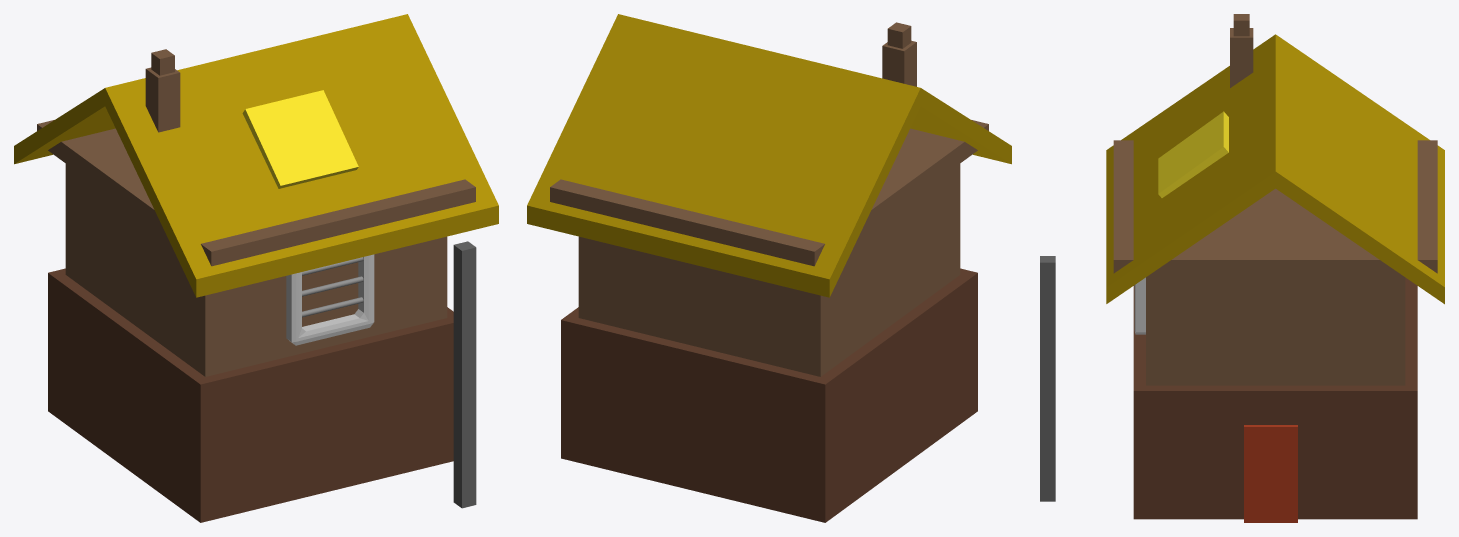
Rendered from houseModel.glb.
3 renders of one model, left to right at view 1: azimuth 30°, elevation 25°; view 2: azimuth 150°, elevation 25°; view 3: azimuth 270°, elevation 25°, orthographic. The views are drawn at different scales.
Parts seen in each view (by area): view 1: House.GroundFloor, House.Roof.Slanted, House.ExtraFloor, House.Roof.Flat, House.Window, House.Light, Juliet Balcony, Chimney, Bars; view 2: House.Roof.Slanted, House.GroundFloor, House.ExtraFloor, House.Roof.Flat, Chimney, ChimneyTopper; view 3: House.Roof.Slanted, House.GroundFloor, House.ExtraFloor, House.Roof.Flat, Front Door, House.Light, House.Window, Chimney, Juliet Balcony.
Part boxes in pixels (x1,y1,x2,y2): House.GroundFloor: (48, 268, 453, 522); House.Roof.Slanted: (14, 14, 498, 297); House.ExtraFloor: (65, 164, 447, 376); House.Roof.Flat: (37, 120, 475, 266); House.Window: (242, 90, 358, 188); House.Light: (453, 241, 476, 508); Juliet Balcony: (286, 254, 374, 345); Chimney: (145, 67, 180, 132); Bars: (302, 257, 363, 317); House.Roof.Slanted: (527, 14, 1011, 297); House.GroundFloor: (561, 268, 977, 522); House.ExtraFloor: (578, 164, 960, 376); House.Roof.Flat: (550, 120, 988, 266); Chimney: (882, 40, 916, 86); ChimneyTopper: (887, 22, 911, 48); House.Roof.Slanted: (1106, 34, 1444, 304); House.GroundFloor: (1133, 277, 1417, 519); House.ExtraFloor: (1146, 277, 1405, 385); House.Roof.Flat: (1113, 140, 1437, 277); Front Door: (1244, 425, 1297, 522); House.Light: (1040, 256, 1055, 501); House.Window: (1158, 111, 1228, 197); Chimney: (1230, 28, 1253, 87); Juliet Balcony: (1134, 277, 1145, 334).
Bounding box in the file's own units: 2.29 × 3.06 × 2.85.
Materials: 1 (1 with a texture image).
